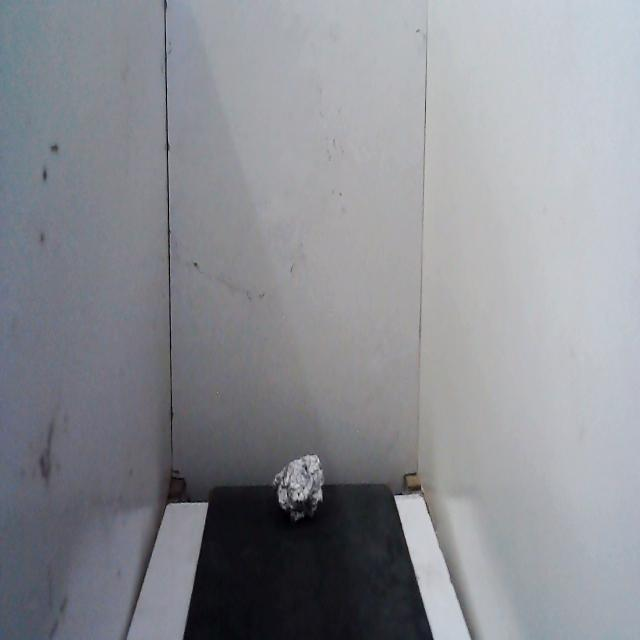metal: (269, 446, 330, 540)
